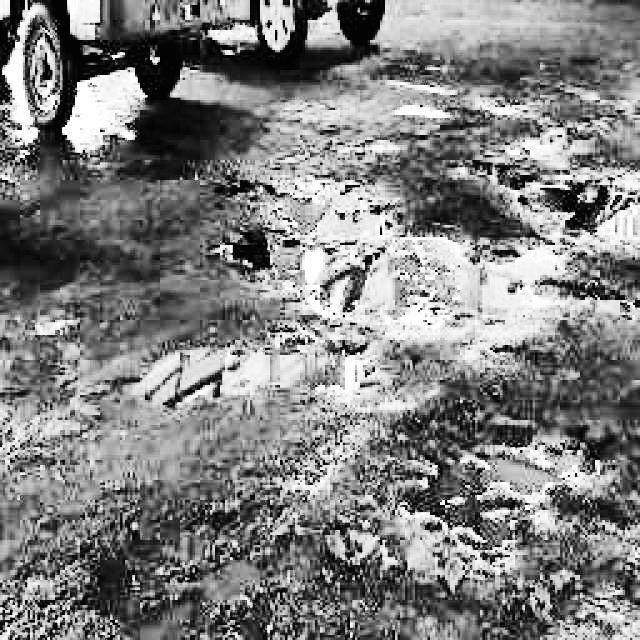Pothole: (206, 157, 640, 343), (118, 322, 380, 417)
